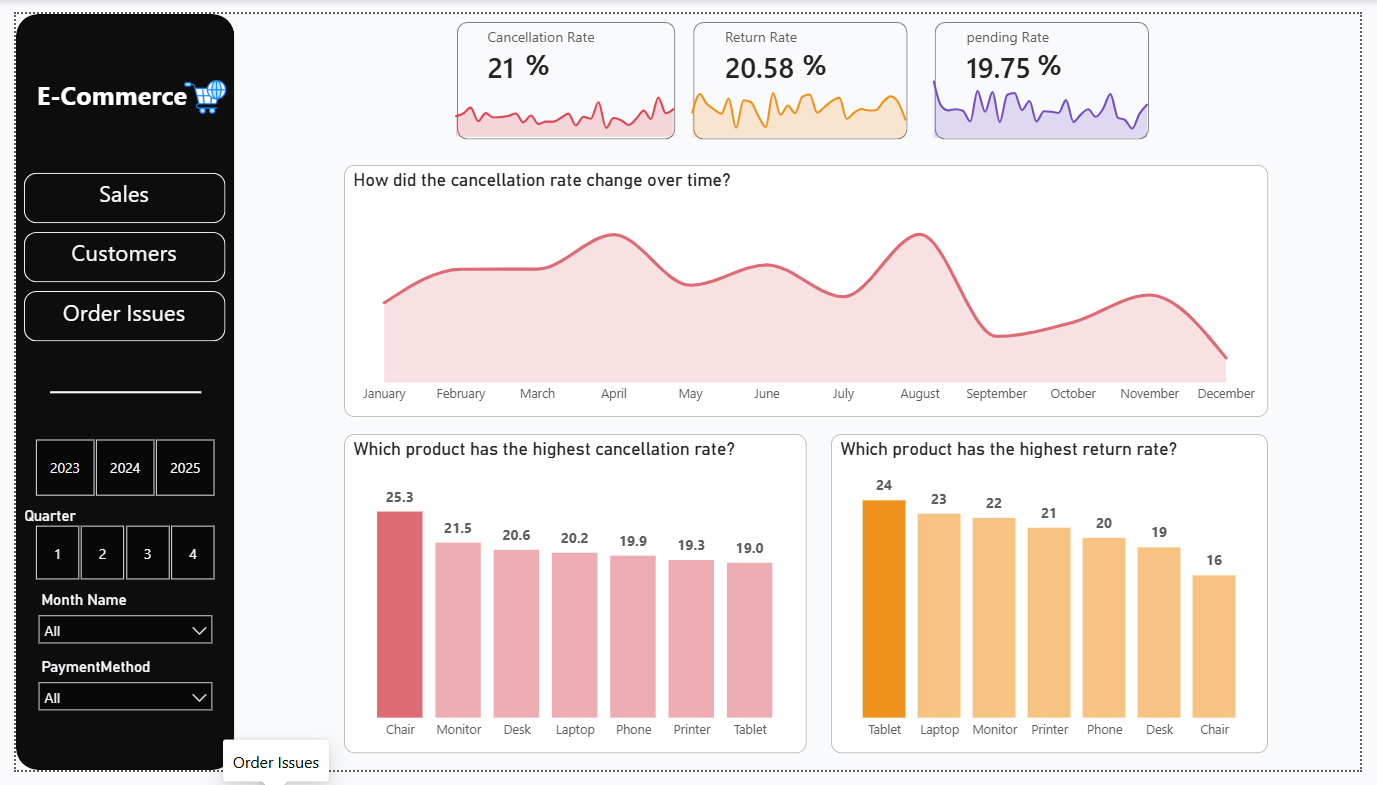

The dashboard page shown, as its layout file describes it:
{"tool":"powerbi","page":{"name":"Order Issues","canvas":[1280,720],"ordinal":2},"visuals":[{"type":"shape","box":[0,0,208,720],"z":0},{"type":"textbox","box":[7.7,55,168,48],"z":0,"group":"g4"},{"type":"image","box":[159.7,55,40,48],"z":1000,"group":"g4"},{"type":"slicer","fields":{"Values":["Date.Year"]},"box":[0,400,208,64],"z":1000},{"type":"slicer","fields":{"Values":["Date.Month Name"]},"box":[16,544,176,64],"z":2000},{"type":"slicer","fields":{"Values":["Date.Quarter"]},"box":[0,464,208,80],"z":3000},{"type":"slicer","fields":{"Values":["Sales.PaymentMethod"]},"box":[16,608,176,64],"z":4000},{"type":"textbox","box":[16,207.3,176,56],"z":4500,"group":"g2"},{"type":"shape","box":[8,207.3,192,48],"z":5000,"group":"g2"},{"type":"shape","box":[32,336,144,48],"z":5000},{"type":"textbox","box":[16,263.3,176,48],"z":5500,"group":"g3"},{"type":"group","id":"g1","title":"Group 1","box":[8,151.3,192,48],"z":6000},{"type":"shape","box":[8,263.3,192,48],"z":6000,"group":"g3"},{"type":"textbox","box":[16,151.3,176,48],"z":6500,"group":"g1"},{"type":"shape","box":[8,151.3,192,48],"z":7000,"group":"g1"},{"type":"group","id":"g2","title":"Group 2","box":[8,207.3,192,56],"z":7000},{"type":"group","id":"g3","title":"Group 3","box":[8,263.3,192,48],"z":8000},{"type":"group","id":"g4","title":"Group 4","box":[7.7,55,192,48],"z":9000},{"type":"group","id":"g5","title":"Group 5","box":[403.9,0,232,120],"z":10000},{"type":"shape","box":[419.9,8,208,112],"z":10000,"group":"g5"},{"type":"group","id":"g6","title":"Group 6","box":[628.9,0,233,124],"z":11000},{"type":"textbox","box":[480,24,56,56],"z":12000},{"type":"group","id":"g7","title":"Group 6","box":[858.3,0,240,128],"z":13000},{"type":"shape","box":[644.9,8,204,112],"z":13000,"group":"g6"},{"type":"shape","box":[874.3,8,204,112],"z":13000,"group":"g7"},{"type":"textbox","box":[744,24,48,56],"z":14000},{"type":"cardVisual","fields":{"Data":["Calculated.Return Rate"]},"box":[646.9,0,176,80],"z":15000,"group":"g6"},{"type":"cardVisual","fields":{"Data":["Calculated.pending Rate"]},"box":[876.3,0,176,80],"z":15000,"group":"g7"},{"type":"textbox","box":[968,24,72,56],"z":15000},{"type":"lineChart","title":"How did the cancellation rate change over time?","fields":{"Category":["Date.Month Name"],"Y":["Calculated.Cancellation Rate"]},"box":[312,144,880,240],"z":16000},{"type":"columnChart","title":"Which product has the highest cancellation rate?","fields":{"Category":["Sales.Product"],"Y":["Calculated.Cancellation Rate"]},"box":[312,400,440,304],"z":17000},{"type":"columnChart","title":"Which product has the highest return rate?","fields":{"Category":["Sales.Product"],"Y":["Calculated.Return Rate"]},"box":[776,400,416,304],"z":18000},{"type":"cardVisual","fields":{"Data":["Calculated.Cancellation Rate"]},"box":[419.9,0,200,80],"z":19000,"group":"g5"},{"type":"lineChart","fields":{"Category":["Date.Date.Variation.Date Hierarchy.Year","Date.Date.Variation.Date Hierarchy.Month"],"Y":["Calculated.Cancellation Rate"]},"box":[403.9,48,237,75],"z":20000,"group":"g5"},{"type":"lineChart","fields":{"Category":["Date.Date.Variation.Date Hierarchy.Year","Date.Date.Variation.Date Hierarchy.Month"],"Y":["Calculated.Return Rate"]},"box":[628.9,48,233,76],"z":21000,"group":"g6"},{"type":"lineChart","fields":{"Category":["Date.Date.Variation.Date Hierarchy.Year","Date.Date.Variation.Date Hierarchy.Month"],"Y":["Calculated.pending Rate"]},"box":[858.3,48,233,76],"z":21000,"group":"g7"}]}

Visuals, with their boxes on the page's 1280x720 design canvas (x1, y1, x2, y2). These are canvas units, not pixel positions in the 1377x785 screenshot, which may show the page scaled, cropped or inside an application window:
shape: bbox(0, 0, 208, 720)
textbox: bbox(8, 55, 176, 103)
image: bbox(160, 55, 200, 103)
slicer - Date.Year: bbox(0, 400, 208, 464)
slicer - Date.Month Name: bbox(16, 544, 192, 608)
slicer - Date.Quarter: bbox(0, 464, 208, 544)
slicer - Sales.PaymentMethod: bbox(16, 608, 192, 672)
textbox: bbox(16, 207, 192, 263)
shape: bbox(8, 207, 200, 255)
shape: bbox(32, 336, 176, 384)
textbox: bbox(16, 263, 192, 311)
"Group 1" group: bbox(8, 151, 200, 199)
shape: bbox(8, 263, 200, 311)
textbox: bbox(16, 151, 192, 199)
shape: bbox(8, 151, 200, 199)
"Group 2" group: bbox(8, 207, 200, 263)
"Group 3" group: bbox(8, 263, 200, 311)
"Group 4" group: bbox(8, 55, 200, 103)
"Group 5" group: bbox(404, 0, 636, 120)
shape: bbox(420, 8, 628, 120)
"Group 6" group: bbox(629, 0, 862, 124)
textbox: bbox(480, 24, 536, 80)
"Group 6" group: bbox(858, 0, 1098, 128)
shape: bbox(645, 8, 849, 120)
shape: bbox(874, 8, 1078, 120)
textbox: bbox(744, 24, 792, 80)
cardVisual - Calculated.Return Rate: bbox(647, 0, 823, 80)
cardVisual - Calculated.pending Rate: bbox(876, 0, 1052, 80)
textbox: bbox(968, 24, 1040, 80)
"How did the cancellation rate change over time?" lineChart: bbox(312, 144, 1192, 384)
"Which product has the highest cancellation rate?" columnChart: bbox(312, 400, 752, 704)
"Which product has the highest return rate?" columnChart: bbox(776, 400, 1192, 704)
cardVisual - Calculated.Cancellation Rate: bbox(420, 0, 620, 80)
lineChart - Date.Date.Variation.Date Hierarchy.Year x Date.Date.Variation.Date Hierarchy.Month: bbox(404, 48, 641, 123)
lineChart - Date.Date.Variation.Date Hierarchy.Year x Date.Date.Variation.Date Hierarchy.Month: bbox(629, 48, 862, 124)
lineChart - Date.Date.Variation.Date Hierarchy.Year x Date.Date.Variation.Date Hierarchy.Month: bbox(858, 48, 1091, 124)
